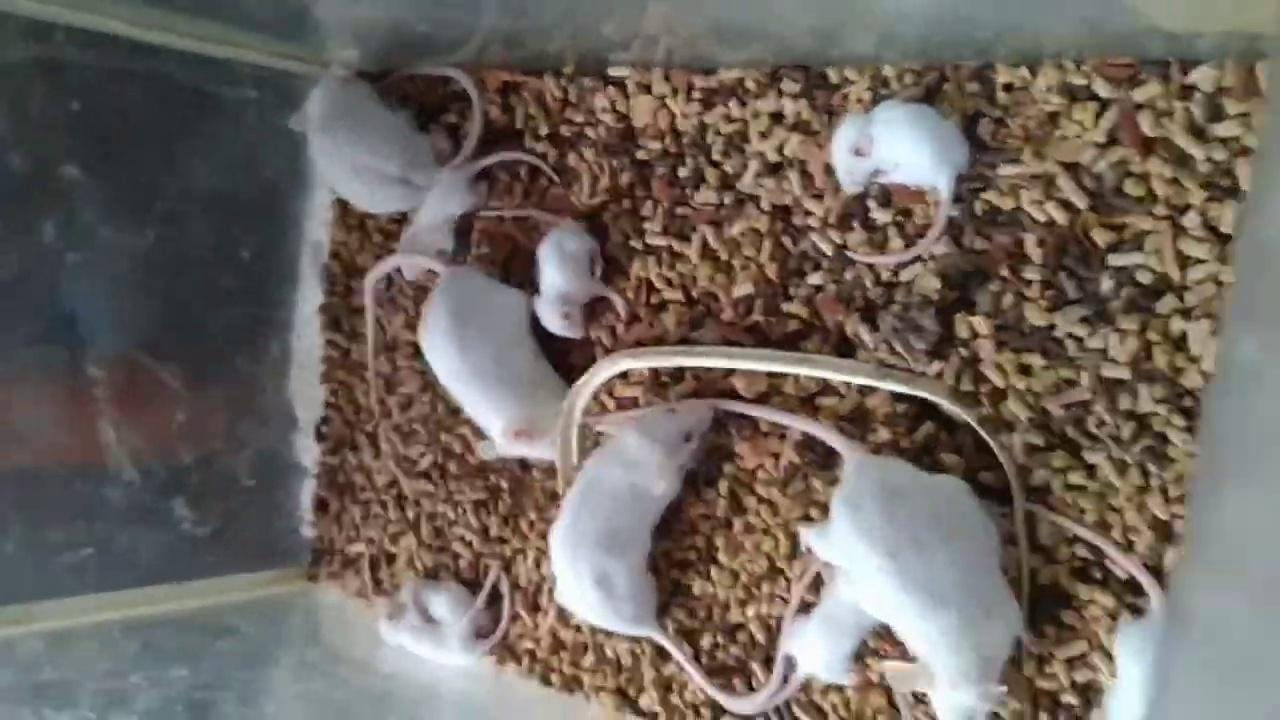rat: (714, 398, 1050, 720), (548, 403, 816, 708), (364, 254, 568, 461), (288, 53, 482, 213), (1025, 503, 1166, 720), (832, 96, 972, 264), (398, 151, 560, 279), (468, 210, 630, 338), (768, 584, 878, 717), (378, 599, 499, 662), (408, 574, 493, 629)
